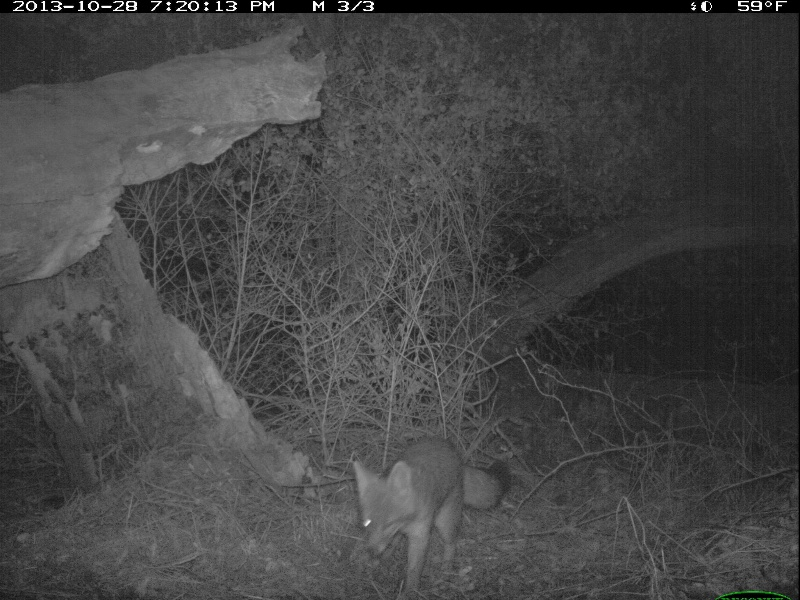coyote: (351, 435, 499, 591)
